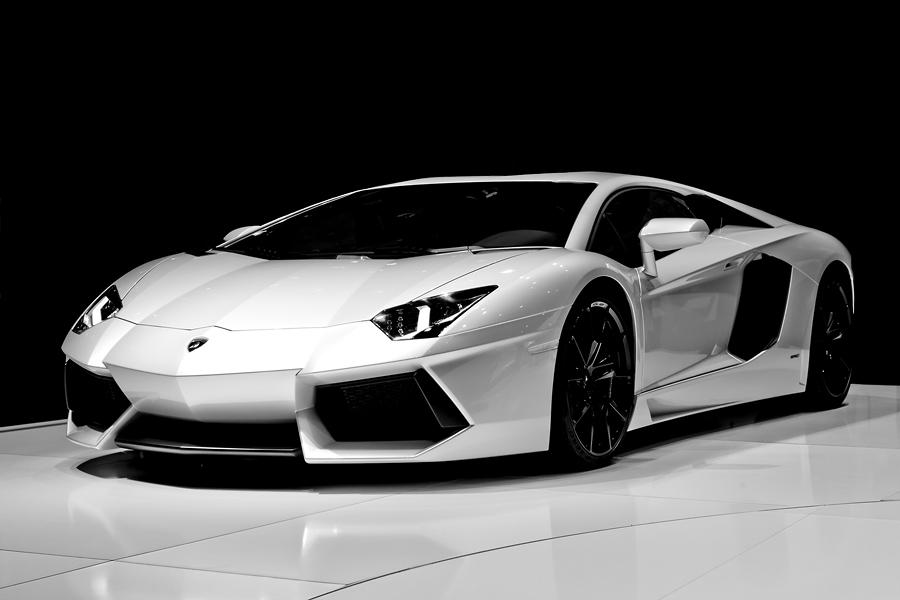small: (59, 167, 858, 475)
